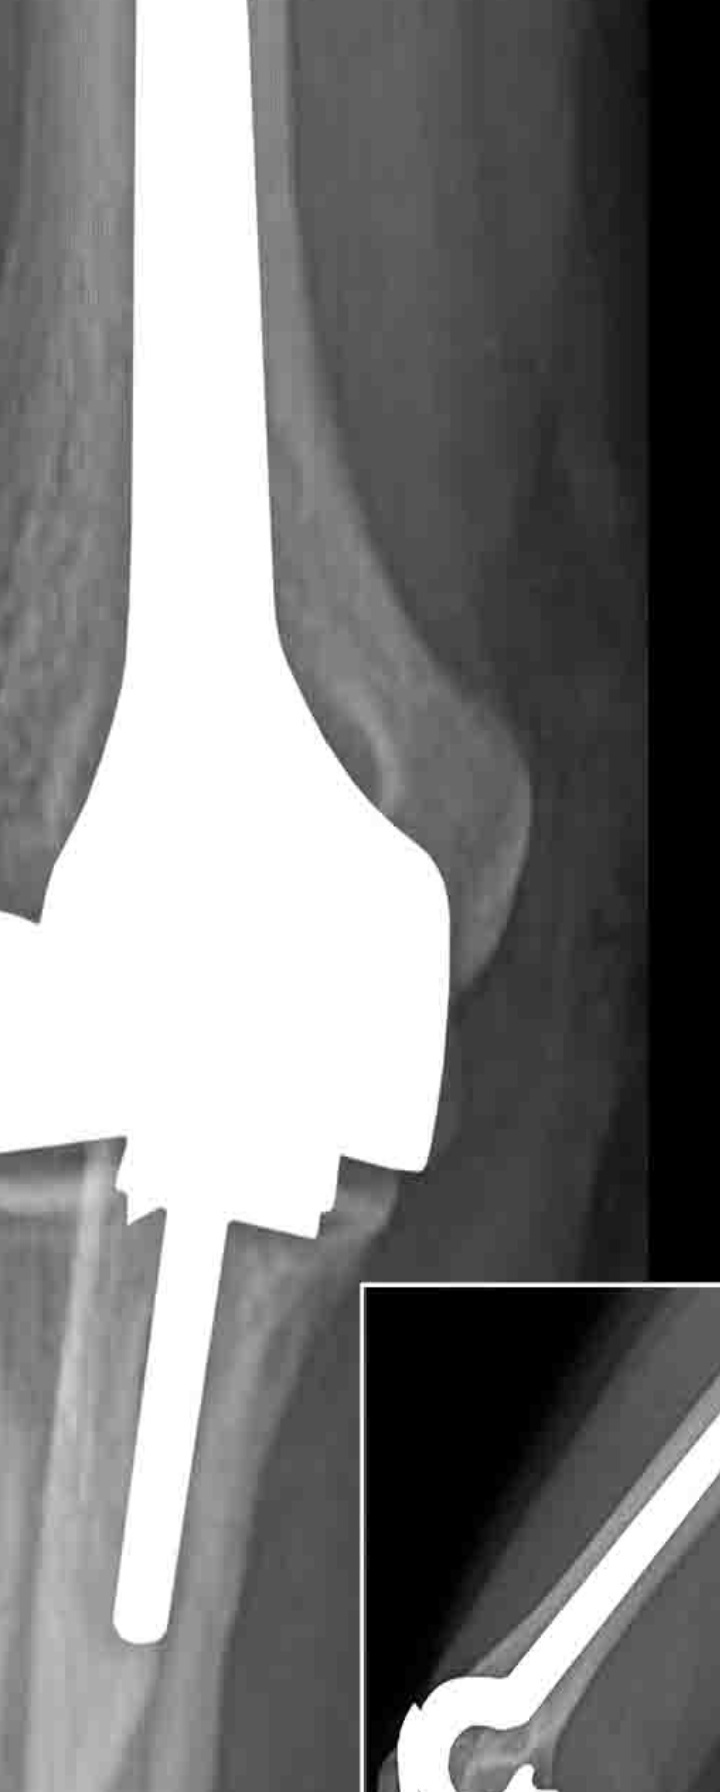Elbow - IBP - Biomet: (2, 1, 481, 1645), (381, 1334, 720, 1784)
